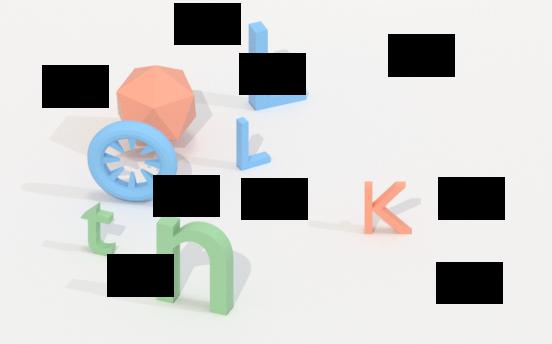dagiac: (115, 64, 199, 144)
l: (246, 19, 310, 114), (235, 114, 274, 173)
n: (153, 212, 236, 318), (363, 179, 415, 239)
t: (80, 201, 119, 257)
tron: (84, 120, 178, 205)
